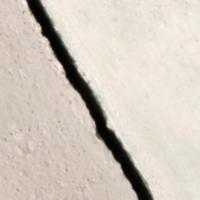crack: (24, 1, 162, 199)
